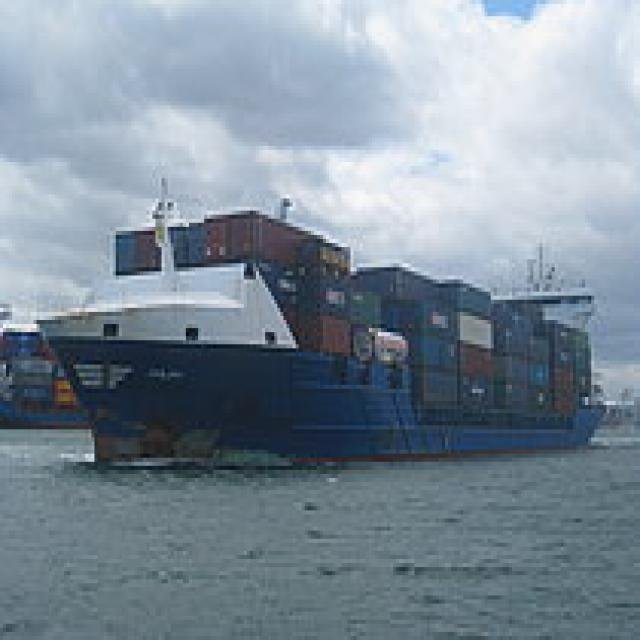Ship: (29, 167, 617, 479)
